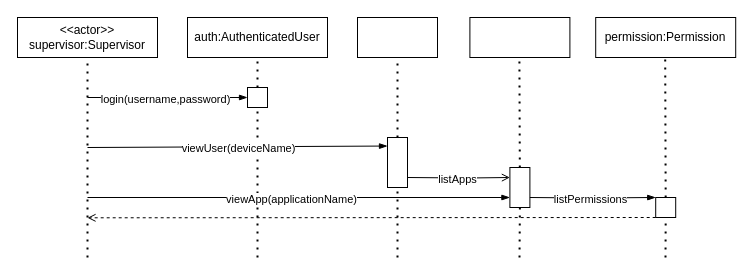
This 754x277 diagram has some shape labels left out. Each missing label, with the box of its shape:
app:Application: (469, 16, 570, 58)
user:Device: (356, 16, 438, 58)
